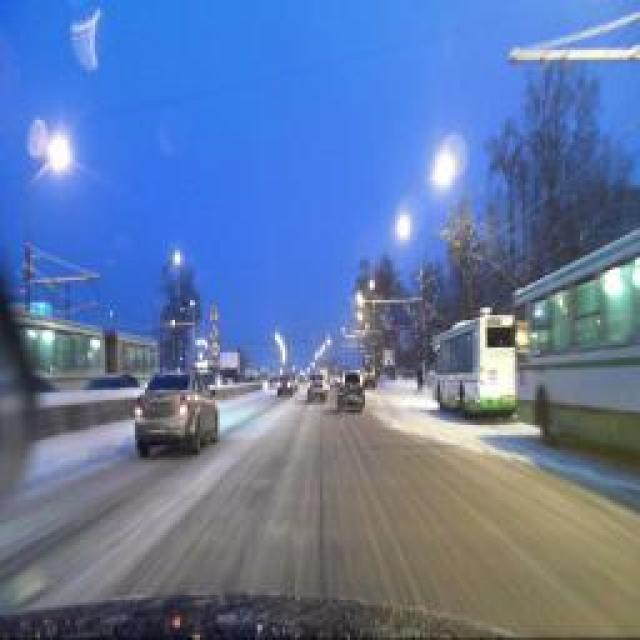sign: (210, 338, 222, 358)
